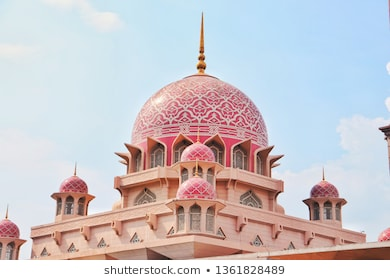Mosque: (49, 13, 339, 237)
